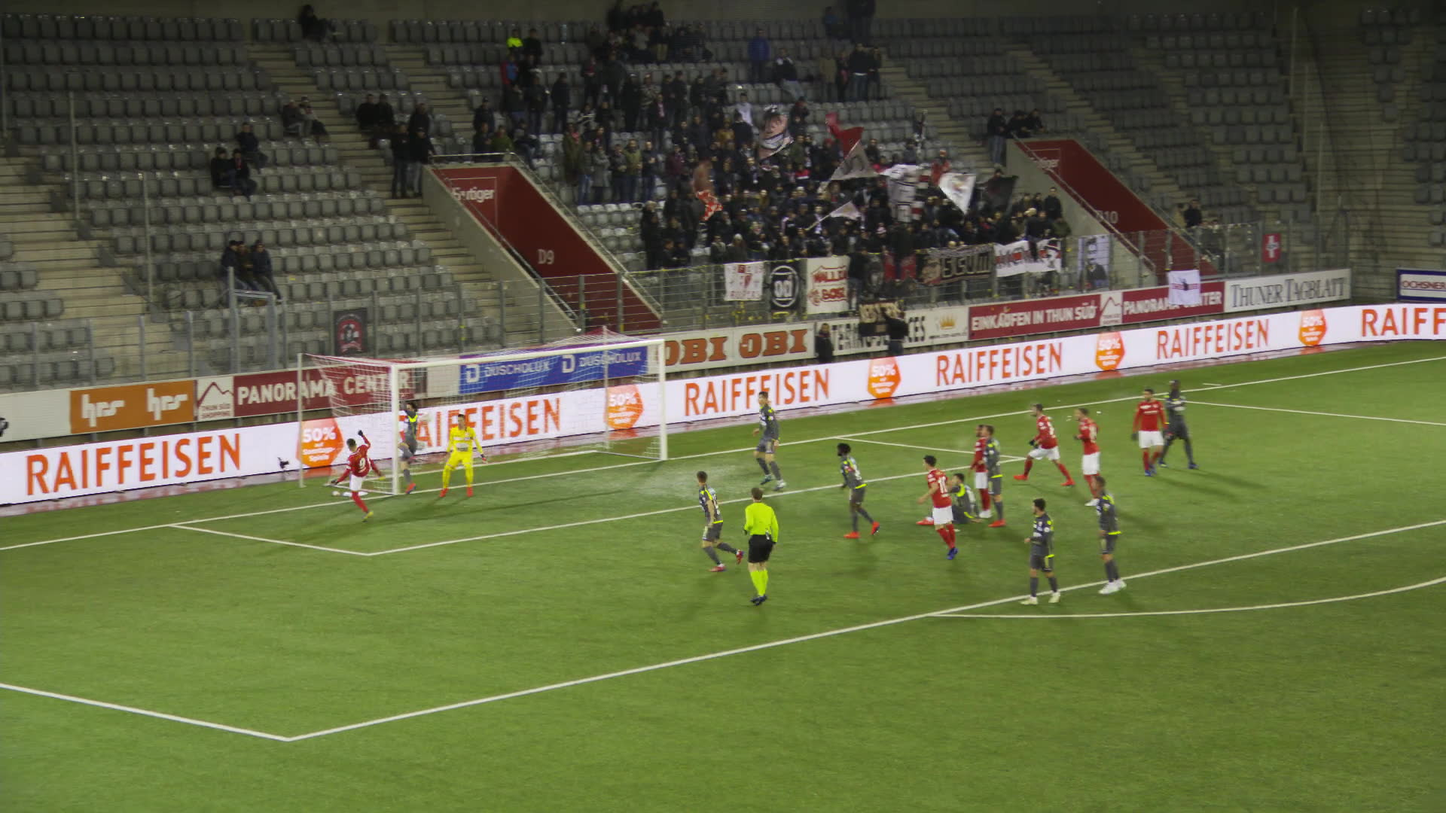ball: (420, 410, 429, 419)
player: (1011, 403, 1075, 490), (331, 429, 385, 522), (695, 471, 743, 571), (1089, 475, 1127, 595), (1019, 498, 1062, 604), (436, 412, 487, 501), (917, 455, 957, 562), (834, 443, 878, 538), (1157, 378, 1200, 472), (1072, 407, 1112, 504), (753, 390, 786, 490), (1130, 387, 1166, 476), (916, 473, 974, 525), (396, 398, 426, 494), (981, 423, 1008, 528), (967, 424, 991, 518)
referee: (741, 486, 777, 605)
